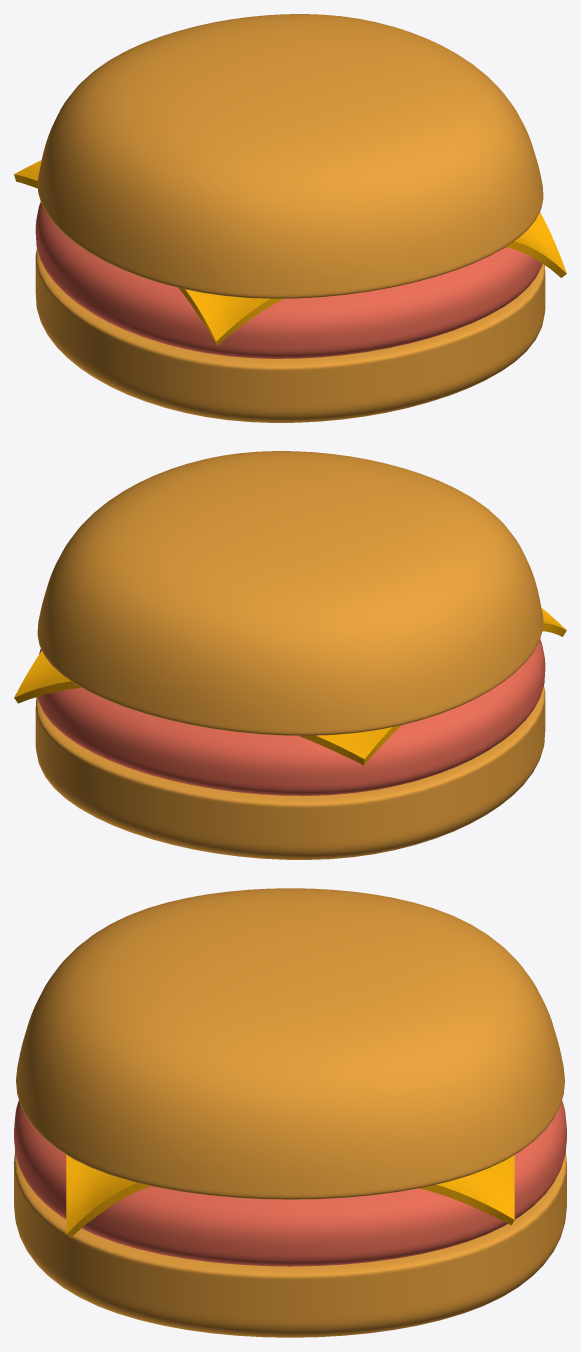
The model's file is hamburger.glb.
The picture shows the model from 3 angles, top to bottom: view 1: azimuth 30°, elevation 25°; view 2: azimuth 150°, elevation 25°; view 3: azimuth 270°, elevation 25°; orthographic projection. The views are drawn at different scales.
Parts seen in each view (by area): view 1: Cube.002, Cube, Cube.001, Plane; view 2: Cube.002, Cube, Cube.001, Plane; view 3: Cube.002, Cube, Cube.001, Plane.
Part boxes in pixels (box(x1,y1,x2,y2)): Cube.002: box(37, 14, 543, 298); Cube: box(35, 249, 545, 422); Cube.001: box(35, 202, 542, 358); Plane: box(14, 160, 566, 345); Cube.002: box(37, 451, 543, 735); Cube: box(35, 686, 545, 859); Cube.001: box(37, 639, 545, 795); Plane: box(14, 608, 566, 765); Cube.002: box(16, 888, 564, 1199); Cube: box(14, 1151, 566, 1337); Cube.001: box(14, 1100, 566, 1266); Plane: box(66, 1155, 514, 1237).
Size of the model in its own units: 9.17 by 5.43 by 9.17.
